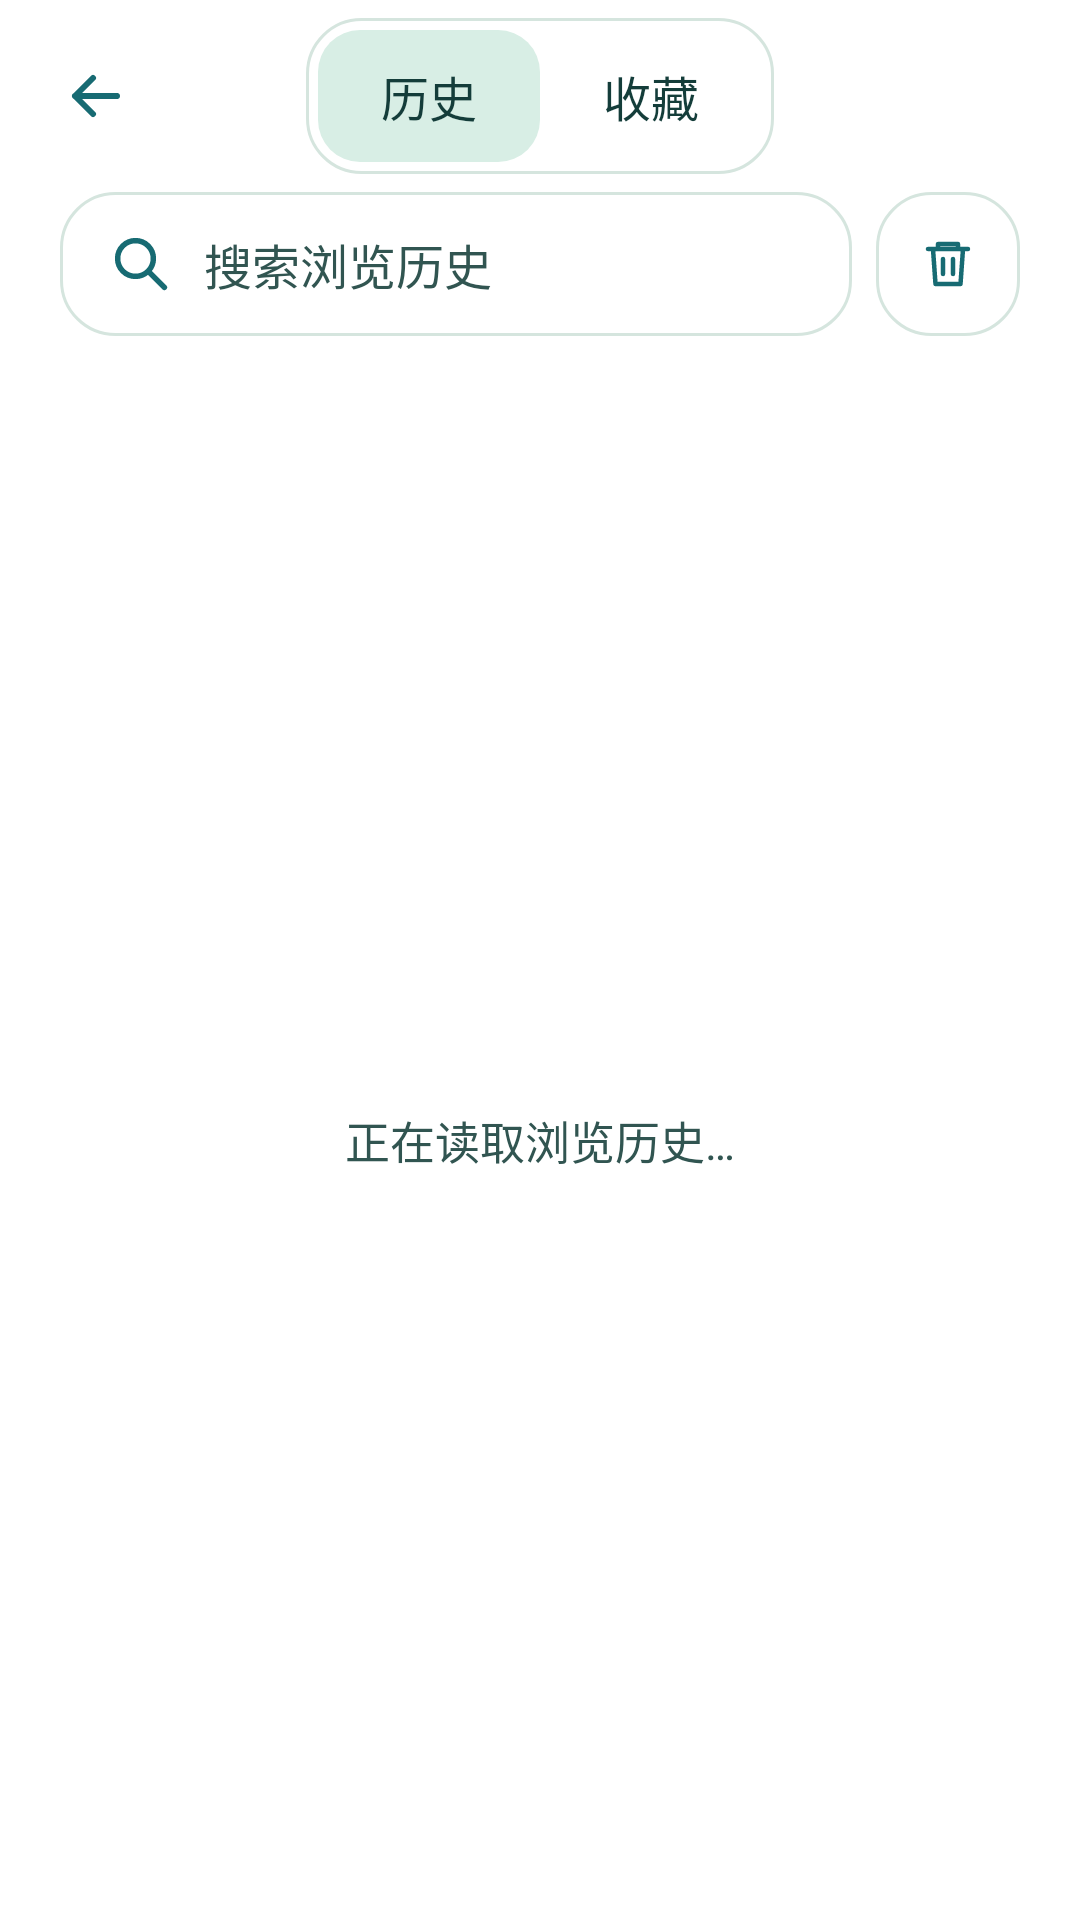

Icon bounding boxes for this 1080 x 1920 phone screenshot, format detection(x1, y1, x2, y2):
后退: detection(72, 75, 120, 117)
清空浏览历史？: detection(876, 192, 1020, 336)
